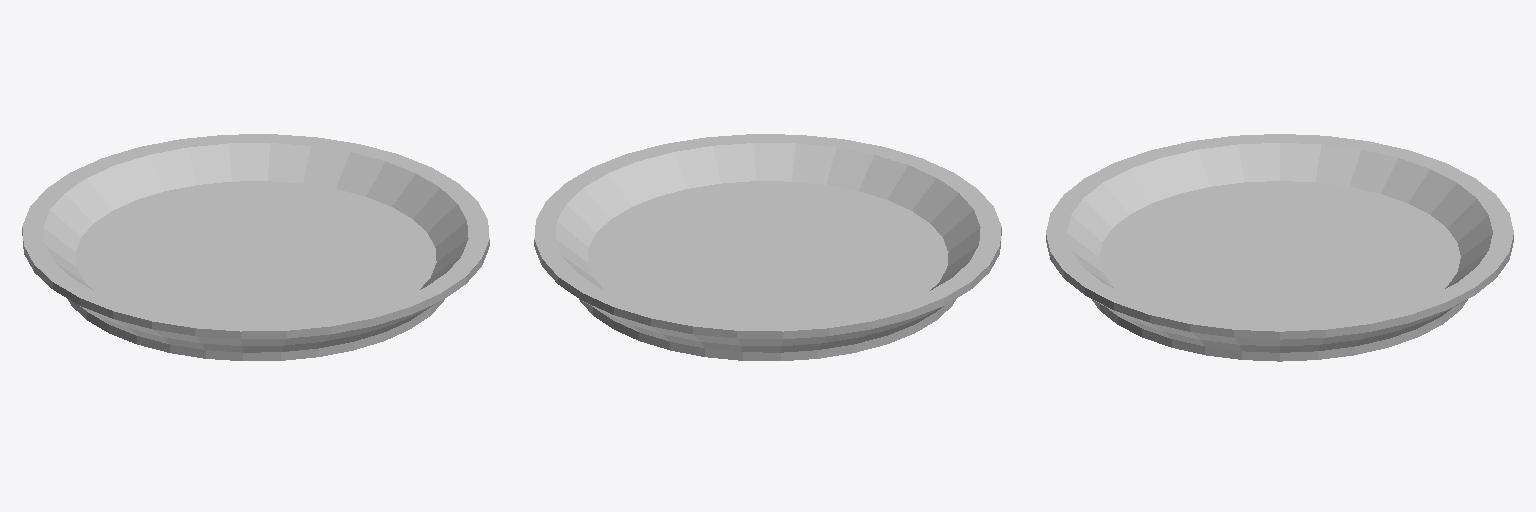
The model's file is KeyBowl.obj.
3 views of the same model, side by side, from view 1: azimuth 30°, elevation 25°; view 2: azimuth 150°, elevation 25°; view 3: azimuth 270°, elevation 25° (orthographic).
Parts seen in each view (by area): view 1: Cylinder; view 2: Cylinder; view 3: Cylinder.
Part boxes in pixels (x1,y1,x2,y2): Cylinder: (22,134,489,360); Cylinder: (534,134,1001,360); Cylinder: (1046,134,1513,361).
Bounding box in the file's own units: 2.4 × 0.2627 × 2.4.